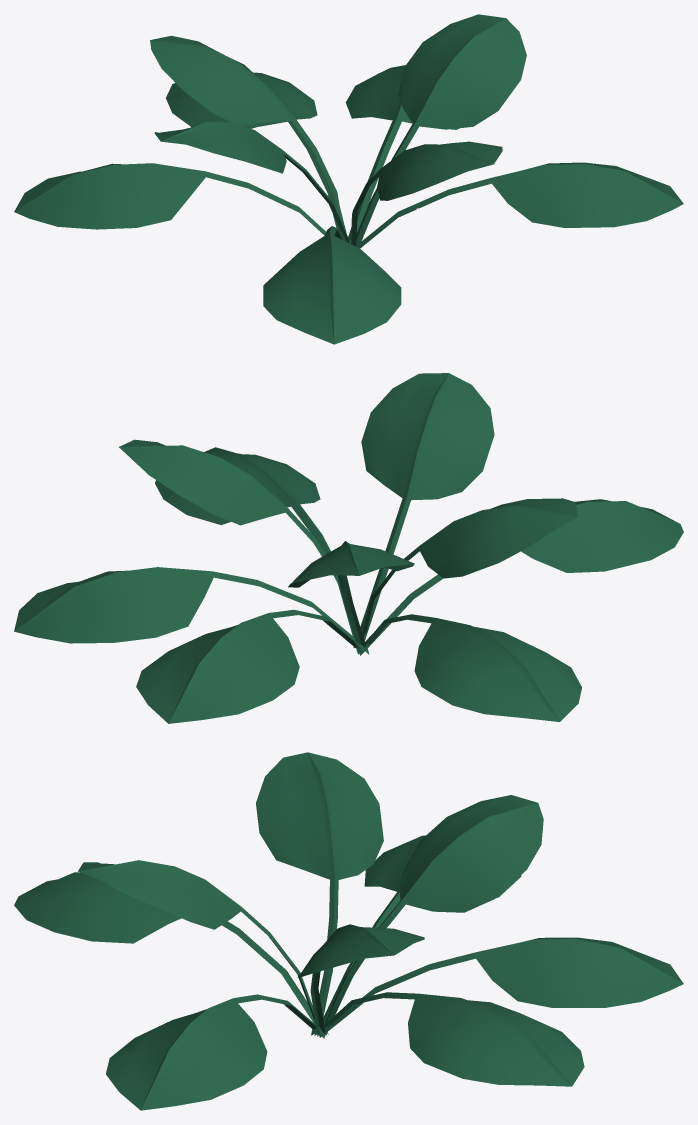
The model's file is Bush2.fbx.
3 views of the same model, one above another, from view 1: azimuth 30°, elevation 25°; view 2: azimuth 150°, elevation 25°; view 3: azimuth 270°, elevation 25° (orthographic). The views are drawn at different scales.
Parts seen in each view (by area): view 1: Plane.003; view 2: Plane.003; view 3: Plane.003.
Boxes of the visible parts, x1,y1,x2,y2 form: Plane.003: (14,14,683,344); Plane.003: (14,373,683,723); Plane.003: (14,752,683,1110).
Bounding box in the file's own units: 1.89 × 0.6021 × 1.98.
